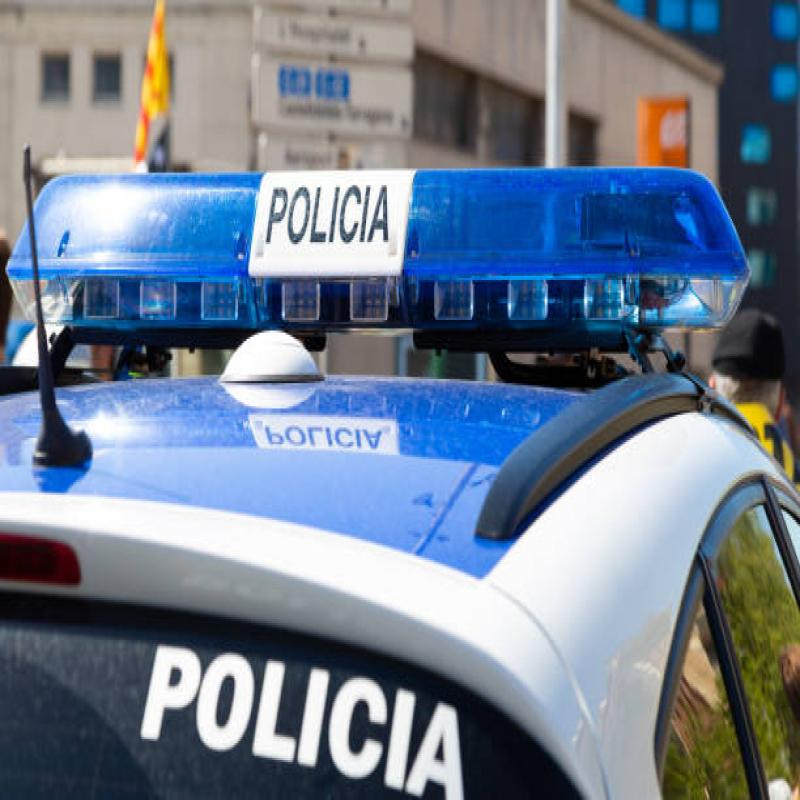AmbulanceSiren: (0, 134, 763, 347)
